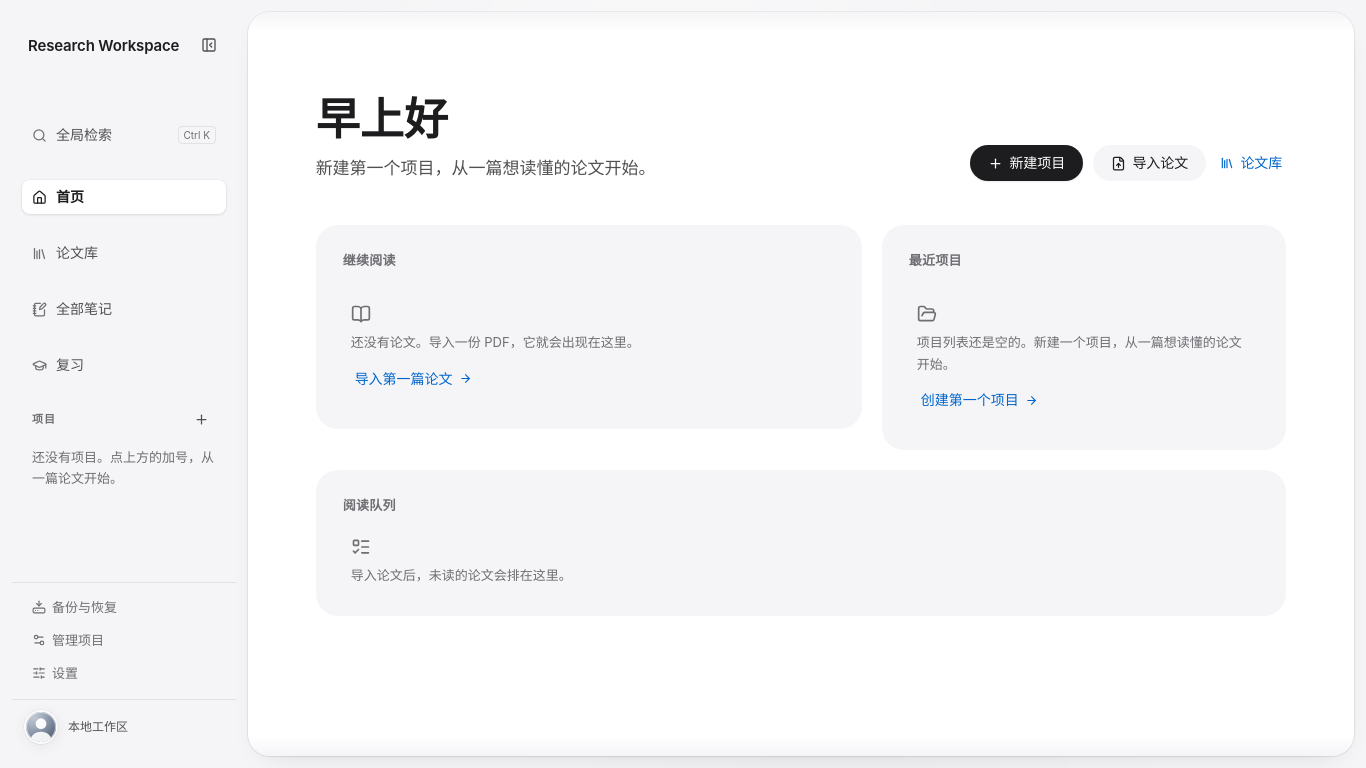
Test case: selecting and renaming › lists projects newest first and switches the project page on click
Step 1. Click the button named "新建项目" → (201, 419), box [186,404,216,434]
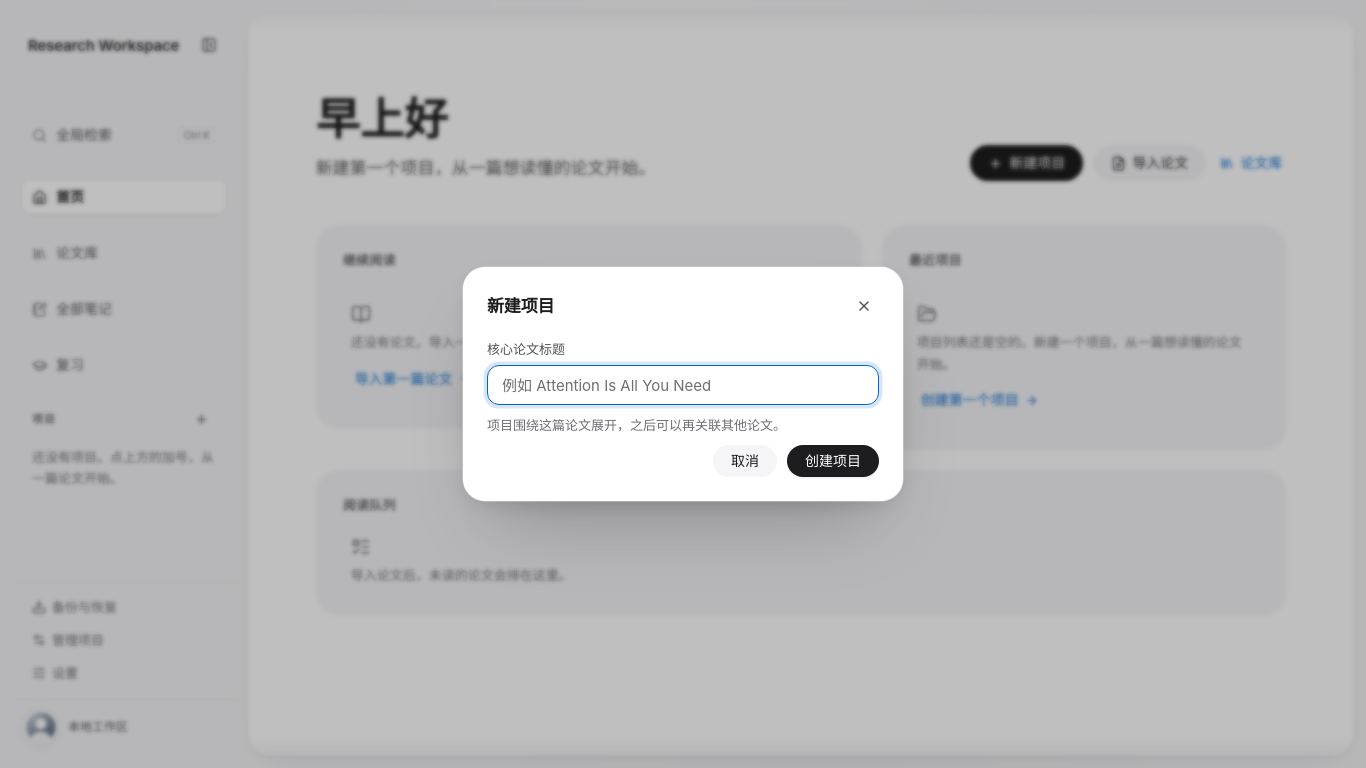
Step 2. Type "Alpha" into the field labelled "核心论文标题" → (683, 385), box [487,365,879,405]
Step 3. Click the button "创建项目" → (833, 461), box [787,445,879,477]
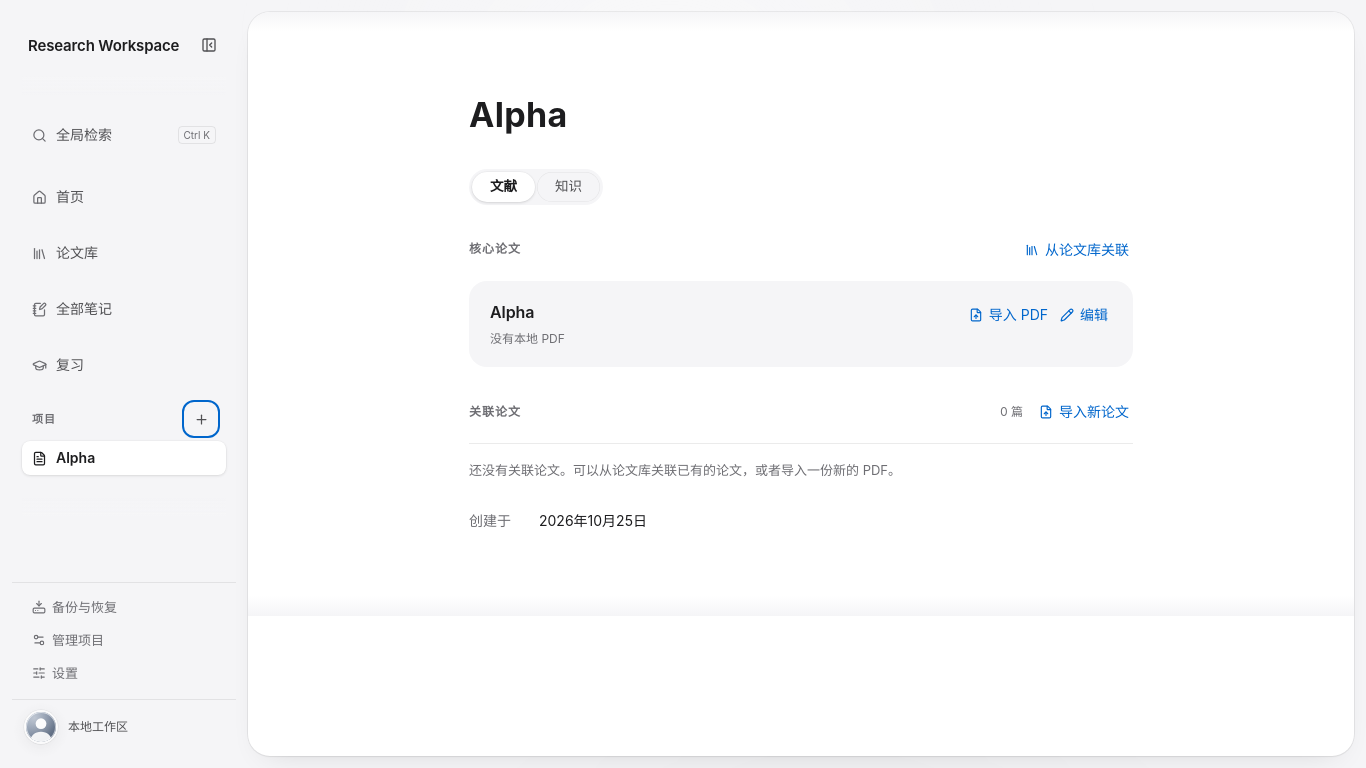
Step 4. Click the button named "新建项目" → (201, 419), box [186,404,216,434]
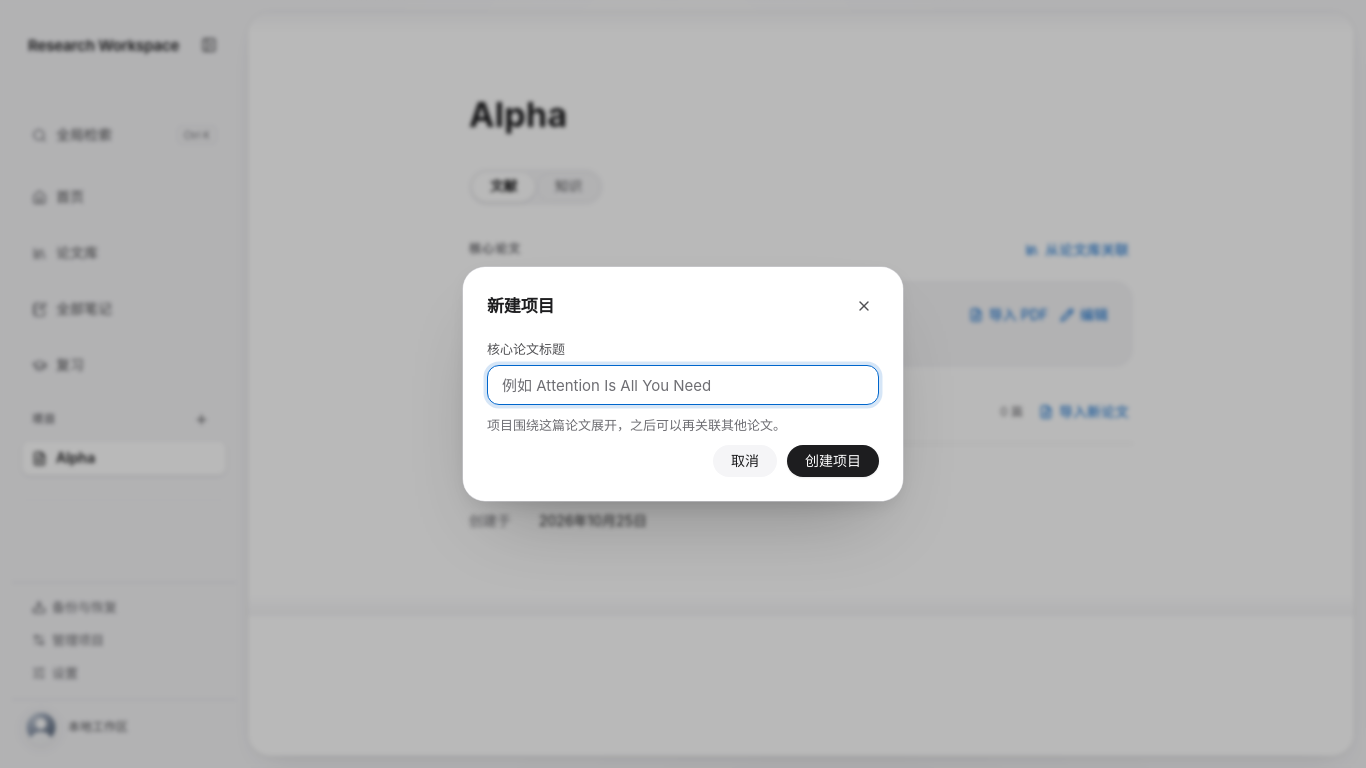
Step 5. Type "Beta" into the field labelled "核心论文标题" → (683, 385), box [487,365,879,405]
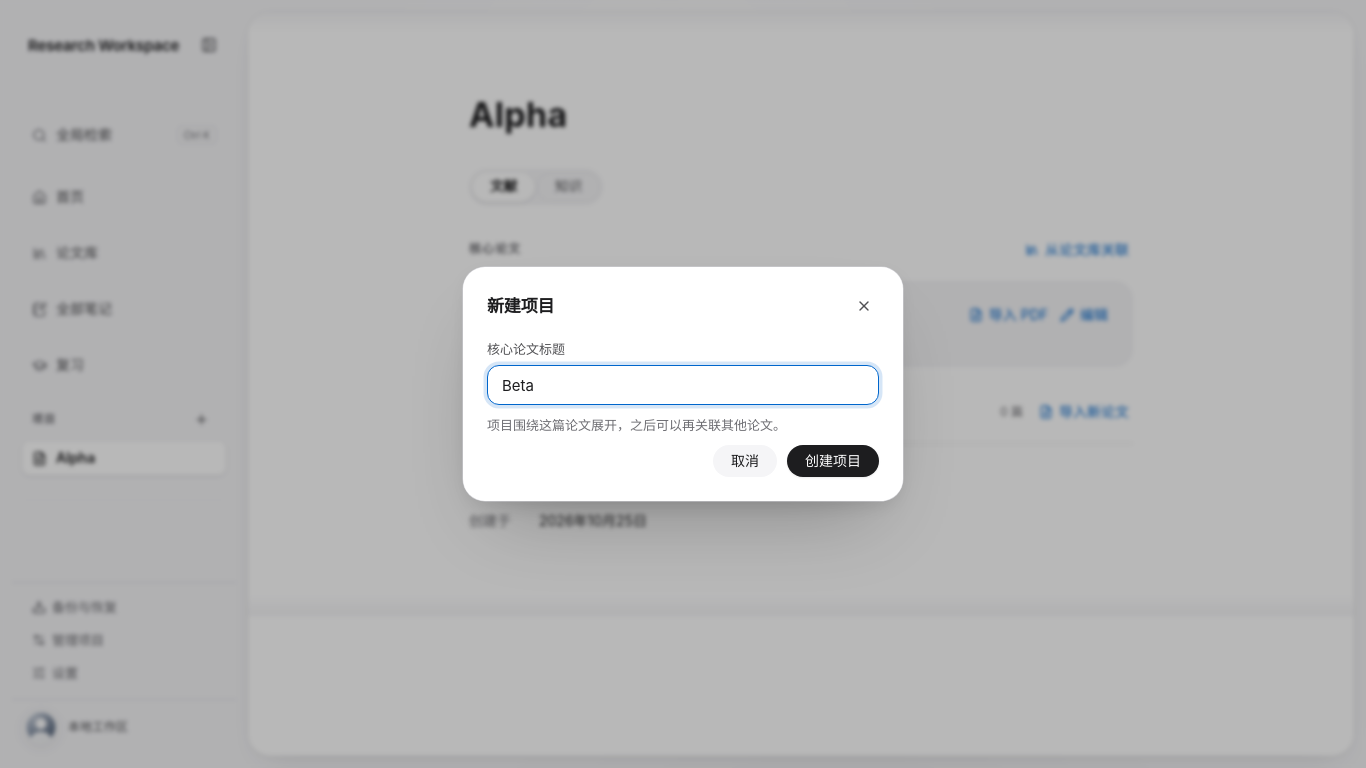
Step 6. Click the button "创建项目" → (833, 461), box [787,445,879,477]
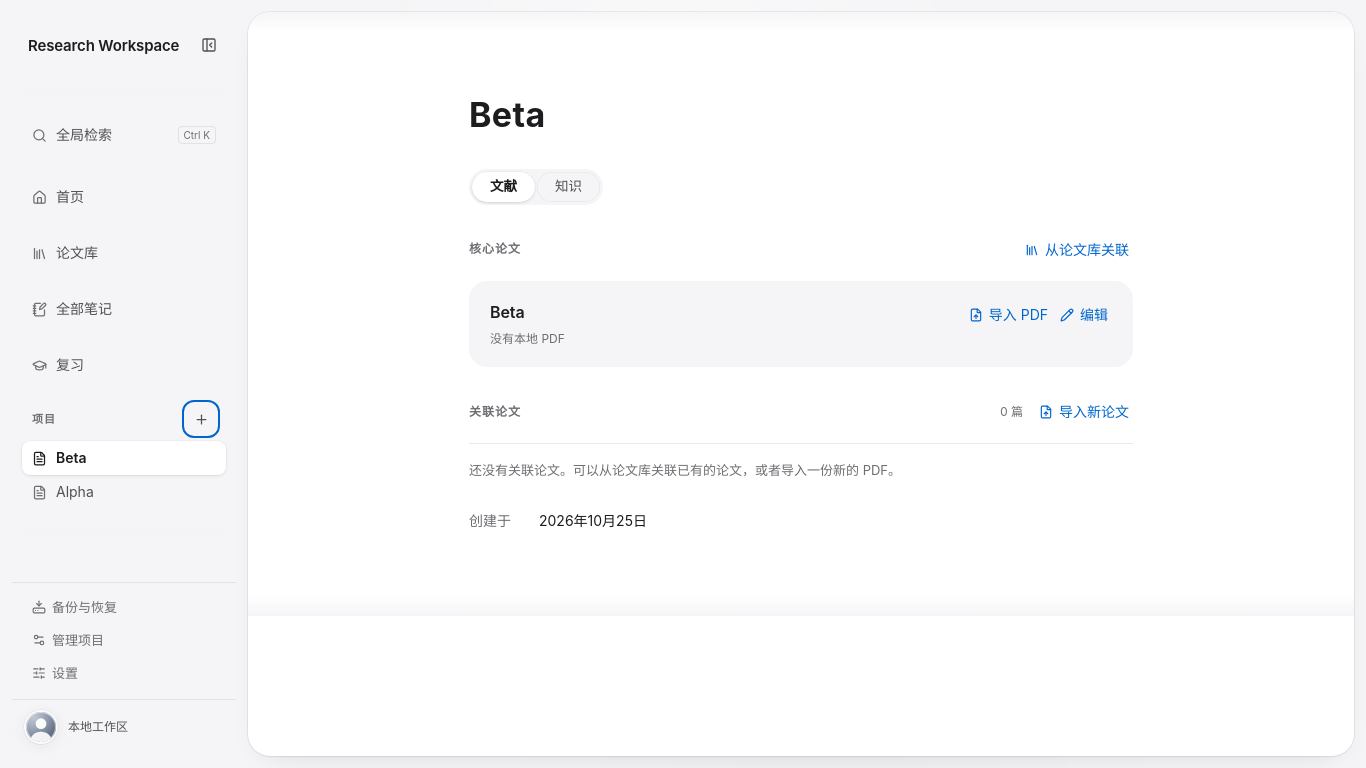
Step 7. Click the button "Alpha" → (124, 492), box [22,475,226,509]
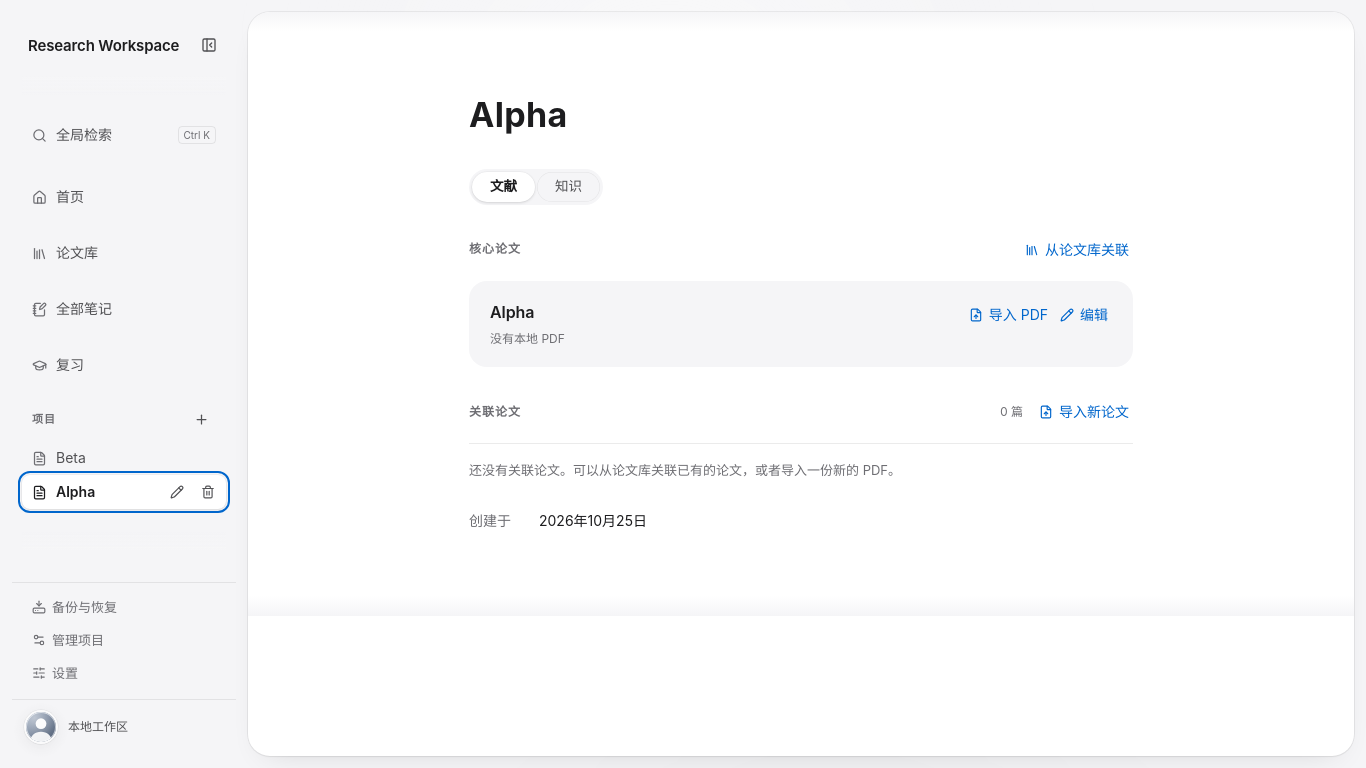
expect the 1st heading "Alpha" is shown: met, box [469,94,568,135]
